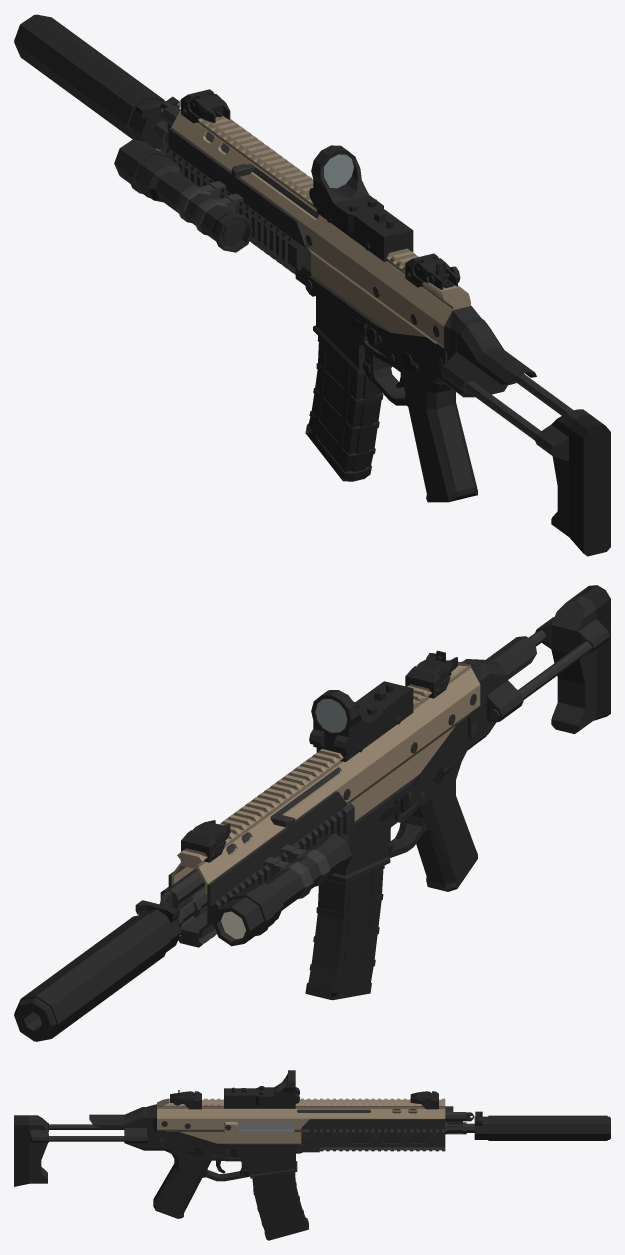
File: ACR_PDW.fbx
The picture shows the model from 3 angles, top to bottom: view 1: azimuth 30°, elevation 25°; view 2: azimuth 150°, elevation 25°; view 3: azimuth 270°, elevation 25°; orthographic projection. The views are drawn at different scales.
Visible parts, largest first — view 1: Receiver_Upper, Suppressor_Notch, Butt_Pad, Magazine_30_Round_PMAG, Pistol_Grip, Receiver_Lower, Light_Tactical, Body, Pic_Rail_Top, Handguard_Railed, Stock_Cover, Pic_RaiL_Left (+7 smaller); view 2: Receiver_Upper, Suppressor_Notch, Magazine_30_Round_PMAG, Butt_Pad, Receiver_Lower, Pistol_Grip, Light_Tactical, Body, Pic_Rail_Top, Handguard_Railed, Pic_RaiL_Left, Stock_Cover (+9 smaller); view 3: Receiver_Upper, Suppressor_Notch, Receiver_Lower, Magazine_30_Round_PMAG, Pistol_Grip, Butt_Pad, Handguard_Railed, Pic_Rail_Right, Pic_Rail_Top, Body, Stock_Cover, Pic_Rail_Bottom (+6 smaller).
Boxes of the visible parts, <box> form: Receiver_Upper: <box>171,110,471,348</box>; Suppressor_Notch: <box>14,14,164,149</box>; Butt_Pad: <box>534,409,610,556</box>; Magazine_30_Round_PMAG: <box>305,336,383,481</box>; Pistol_Grip: <box>365,349,477,502</box>; Receiver_Lower: <box>304,275,451,392</box>; Light_Tactical: <box>114,139,253,252</box>; Body: <box>309,145,413,261</box>; Pic_Rail_Top: <box>177,100,470,309</box>; Handguard_Railed: <box>168,128,311,285</box>; Stock_Cover: <box>457,317,536,384</box>; Pic_RaiL_Left: <box>160,146,304,270</box>; Receiver_Upper: <box>171,668,480,894</box>; Suppressor_Notch: <box>14,909,181,1041</box>; Magazine_30_Round_PMAG: <box>305,865,384,1000</box>; Butt_Pad: <box>535,585,610,733</box>; Receiver_Lower: <box>327,717,476,882</box>; Pistol_Grip: <box>388,780,477,891</box>; Light_Tactical: <box>213,833,351,946</box>; Body: <box>309,681,413,761</box>; Pic_Rail_Top: <box>177,660,470,867</box>; Handguard_Railed: <box>168,791,346,937</box>; Pic_RaiL_Left: <box>210,803,354,927</box>; Stock_Cover: <box>463,636,536,695</box>; Receiver_Upper: <box>157,1109,445,1143</box>; Suppressor_Notch: <box>474,1115,610,1140</box>; Receiver_Lower: <box>157,1132,304,1178</box>; Magazine_30_Round_PMAG: <box>252,1172,308,1240</box>; Pistol_Grip: <box>153,1159,250,1218</box>; Butt_Pad: <box>14,1115,48,1186</box>; Handguard_Railed: <box>301,1119,445,1152</box>; Pic_Rail_Right: <box>301,1129,445,1143</box>; Pic_Rail_Top: <box>157,1098,445,1108</box>; Body: <box>224,1070,299,1108</box>; Stock_Cover: <box>89,1107,146,1127</box>; Pic_Rail_Bottom: <box>319,1146,445,1151</box>.
Size of the model in its own units: 4.63 by 13.81 by 44.88.
12 materials, 12 textured.
